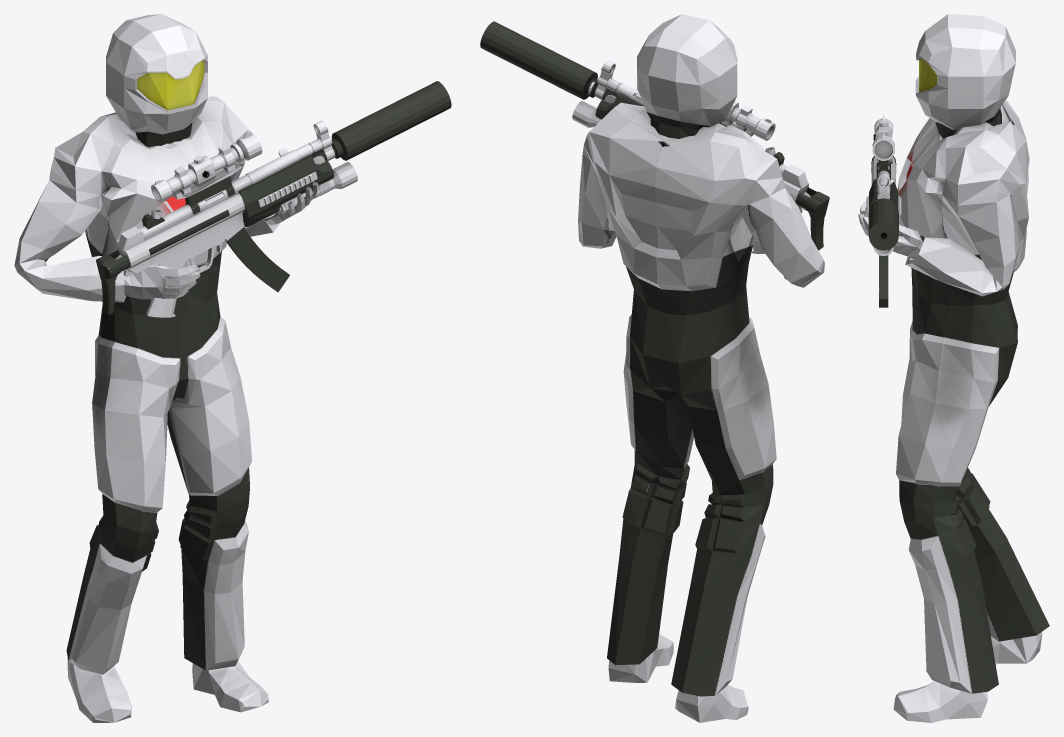
The model's file is walk18.obj.
The picture shows the model from 3 angles, left to right: view 1: azimuth 30°, elevation 25°; view 2: azimuth 150°, elevation 25°; view 3: azimuth 270°, elevation 25°; orthographic projection. The views are drawn at different scales.
Visible parts, largest first — view 1: Male001Skin_001, Object001; view 2: Male001Skin_001, Object001; view 3: Male001Skin_001, Object001.
Boxes of the visible parts, box(x1,y1,x2,y2) form: Male001Skin_001: box(14, 14, 318, 722); Object001: box(96, 81, 451, 317); Male001Skin_001: box(578, 14, 824, 722); Object001: box(480, 21, 829, 253); Male001Skin_001: box(858, 14, 1049, 722); Object001: box(866, 115, 901, 307).
Size of the model in its own units: 1111 by 1890 by 491.
1 material, 1 textured.
